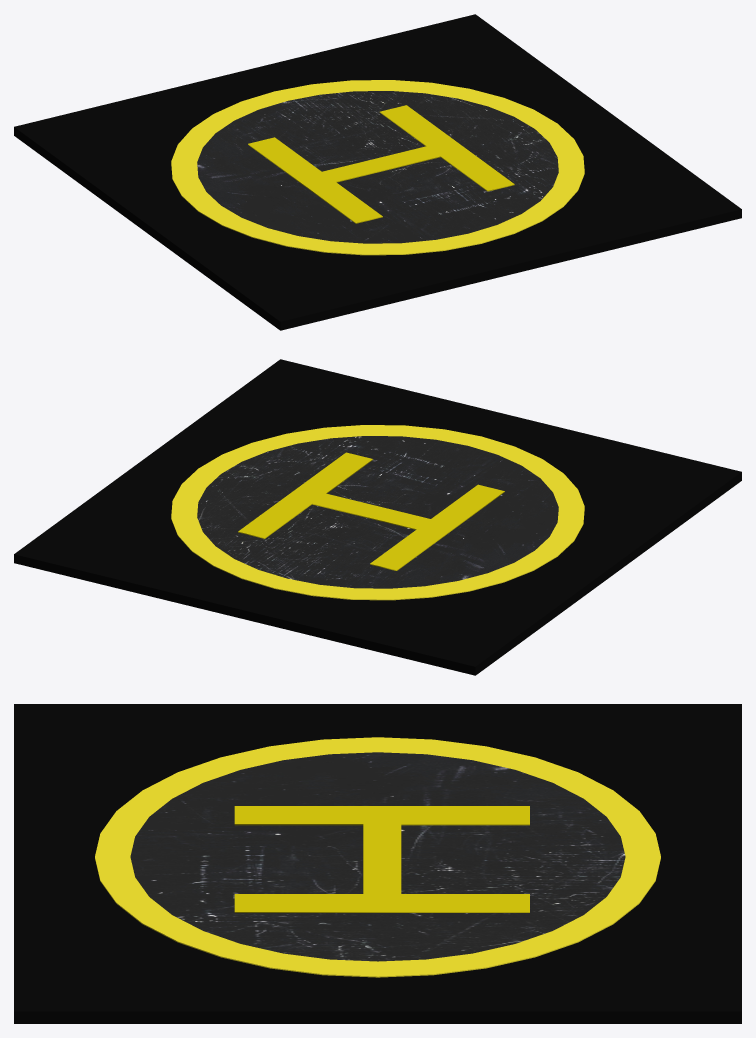
File: heliport.gltf
3 renders of one model, top to bottom at view 1: azimuth 30°, elevation 25°; view 2: azimuth 150°, elevation 25°; view 3: azimuth 270°, elevation 25°, orthographic. The views are drawn at different scales.
Visible parts, largest first — view 1: Cylinder; view 2: Cylinder; view 3: Cylinder.
Boxes of the visible parts, box(x1,y1,x2,y2) form: Cylinder: box(14, 14, 741, 330); Cylinder: box(14, 359, 741, 675); Cylinder: box(14, 704, 741, 1023).
Bounding box in the file's own units: 10.91 × 0.237 × 10.91.
4 materials, 1 textured.
